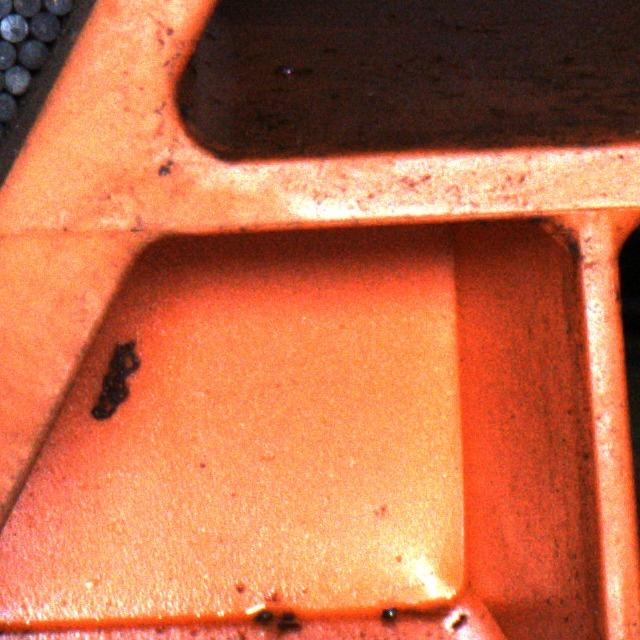tool: (17, 40, 48, 69), (29, 12, 59, 40), (0, 13, 28, 43), (4, 65, 29, 93), (0, 92, 16, 120), (0, 40, 15, 68), (12, 0, 38, 15), (44, 0, 71, 14)
